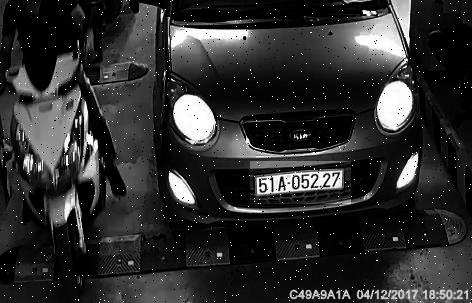License-plate: (252, 162, 354, 205)
